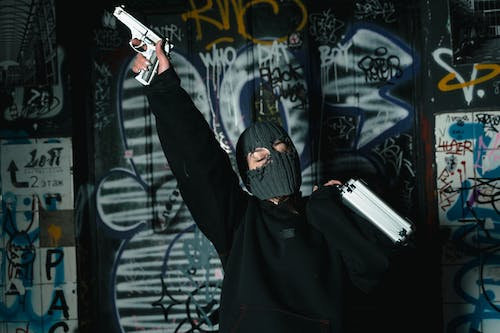gun: (111, 3, 176, 87)
